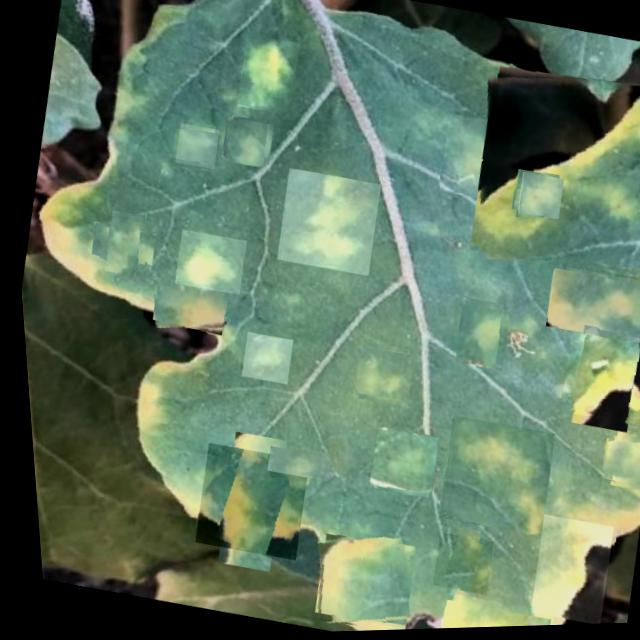leaf_spot: (453, 60, 640, 295), (424, 415, 554, 541), (180, 441, 307, 564), (267, 167, 383, 280), (295, 525, 412, 634), (515, 516, 610, 629), (549, 333, 640, 431), (537, 269, 640, 351), (431, 115, 511, 206), (230, 34, 302, 118), (358, 428, 435, 501), (167, 229, 246, 297), (422, 591, 544, 631), (144, 281, 226, 339), (440, 304, 508, 369), (420, 533, 487, 598), (345, 345, 409, 407), (89, 215, 150, 273), (233, 332, 290, 387), (217, 117, 273, 170), (592, 433, 640, 491), (258, 443, 325, 484), (511, 173, 563, 223), (170, 123, 219, 171)
